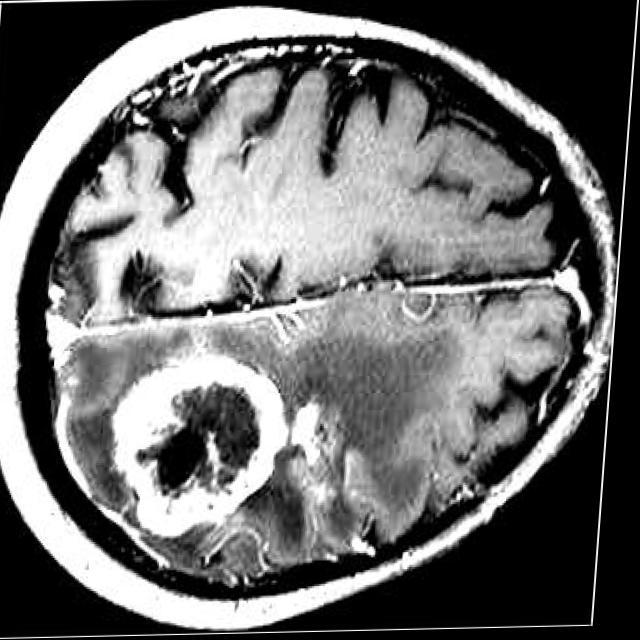Tumor: (116, 352, 291, 538), (141, 386, 264, 497)
